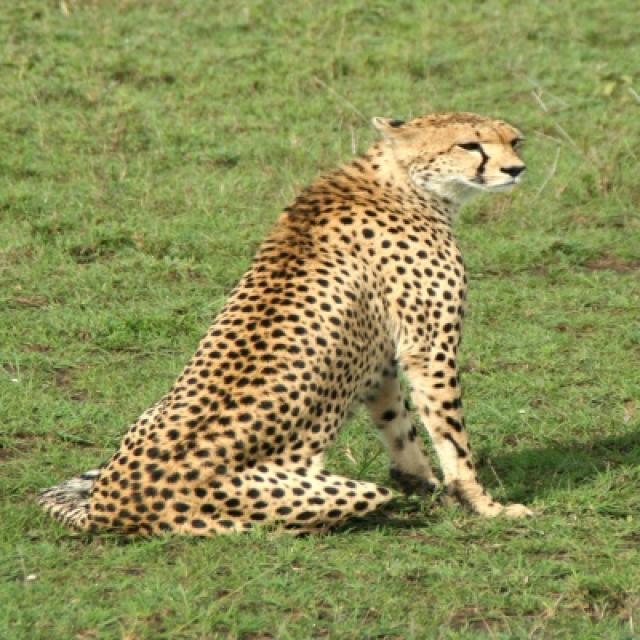Cheetah: (35, 111, 528, 545)
